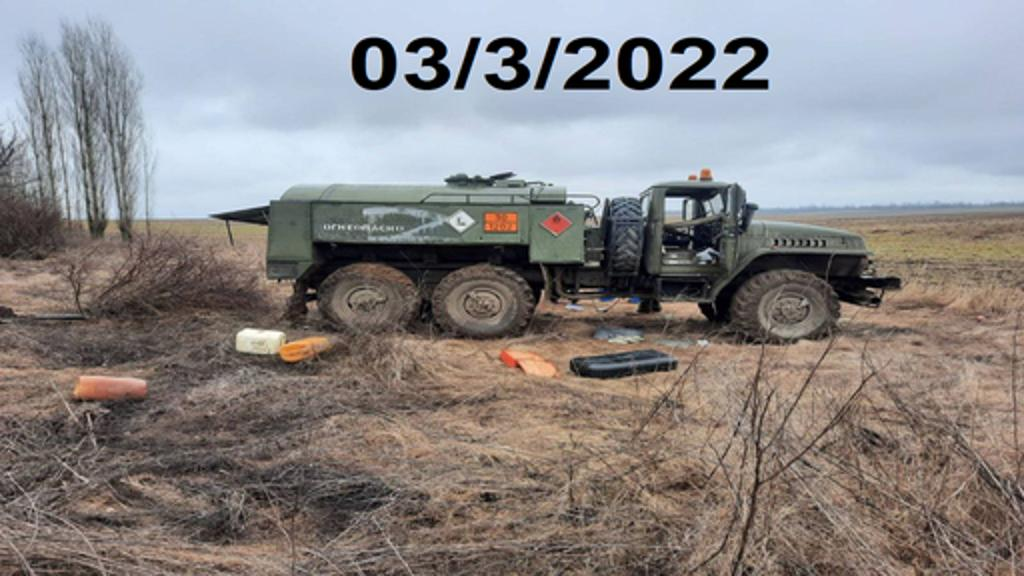TRUCK: (242, 156, 892, 354)
